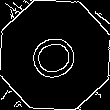O_E: (24, 26, 86, 84)
